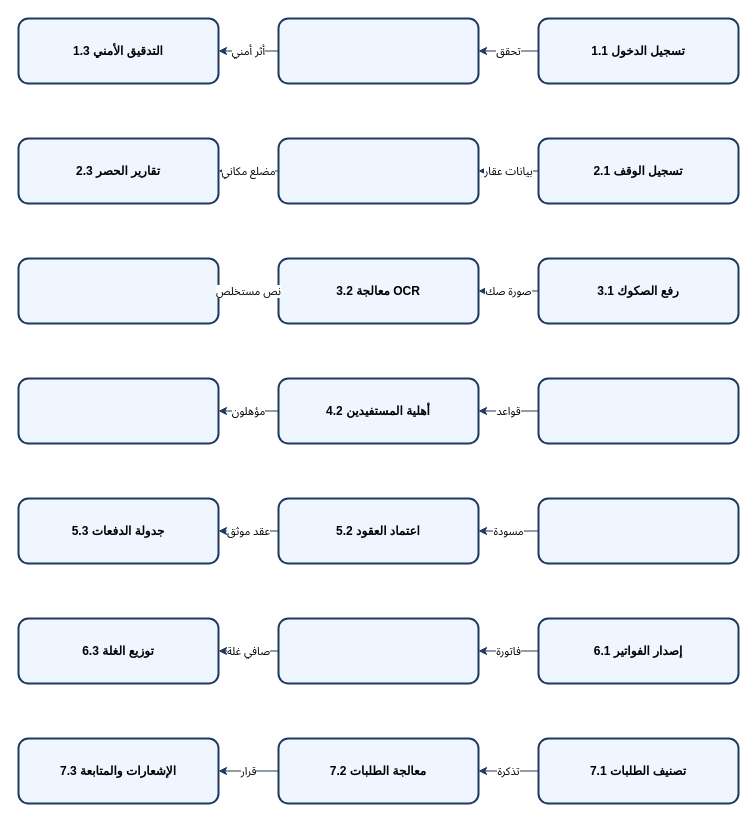
This 756x821 diagram has some shape labels left out. The shapes that lost their labels are listed below. From the top down, each one's centre as x and y in pixels, then its label:
point 378,50: 1.2 إدارة الأدوار RBAC
point 378,170: 2.2 المسح الجغرافي PostGIS
point 118,290: 3.3 بصمة SHA-256
point 118,410: 4.3 احتساب الحصص
point 638,410: 4.1 شروط الواقفين
point 638,530: 5.1 مسودات العقود
point 378,650: 6.2 تحصيل الإيجارات
